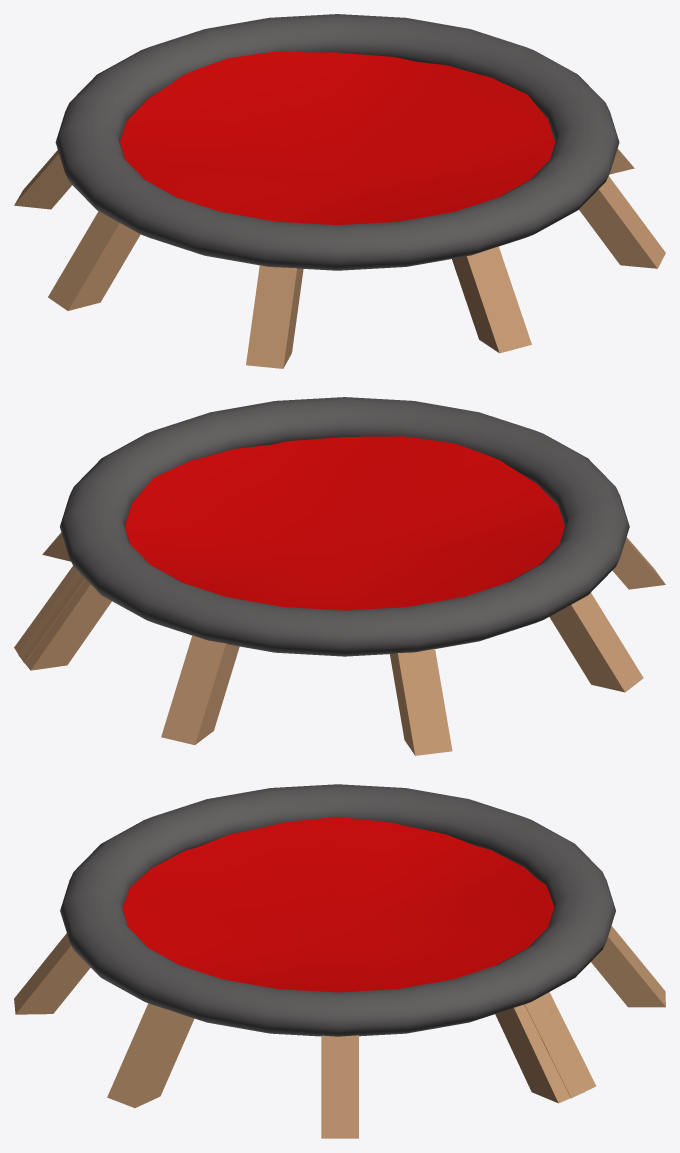
File: jump blanket 1.FBX
3 views of the same model, one above another, from view 1: azimuth 30°, elevation 25°; view 2: azimuth 150°, elevation 25°; view 3: azimuth 270°, elevation 25° (orthographic). The views are drawn at different scales.
Parts seen in each view (by area): view 1: Cylinder001, Torus001, Box007, Box005, Box006, Box008, Box004; view 2: Cylinder001, Torus001, Box003, Box004, Box005, Box010, Box006, Box002; view 3: Cylinder001, Torus001, Box008, Box002, Box001, Box007, Box003, Box010.
Boxes of the visible parts, bbox=[...] form: Cylinder001: bbox=[120, 51, 555, 225]; Torus001: bbox=[55, 14, 619, 270]; Box007: bbox=[452, 246, 531, 353]; Box005: bbox=[48, 211, 140, 310]; Box006: bbox=[246, 265, 303, 368]; Box008: bbox=[579, 176, 665, 268]; Box004: bbox=[14, 150, 71, 209]; Cylinder001: bbox=[125, 436, 564, 610]; Torus001: bbox=[60, 397, 629, 656]; Box003: bbox=[161, 635, 239, 744]; Box004: bbox=[390, 648, 452, 755]; Box005: bbox=[549, 593, 643, 692]; Box010: bbox=[18, 570, 111, 670]; Box006: bbox=[612, 537, 665, 589]; Box002: bbox=[14, 566, 85, 663]; Cylinder001: bbox=[122, 817, 554, 992]; Torus001: bbox=[60, 784, 615, 1036]; Box008: bbox=[107, 1003, 194, 1107]; Box002: bbox=[495, 997, 584, 1103]; Box001: bbox=[321, 1035, 358, 1138]; Box007: bbox=[14, 933, 90, 1014]; Box003: bbox=[591, 925, 665, 1007]; Box010: bbox=[524, 992, 596, 1098].
Bounding box in the file's own units: 212 × 38.48 × 212.
